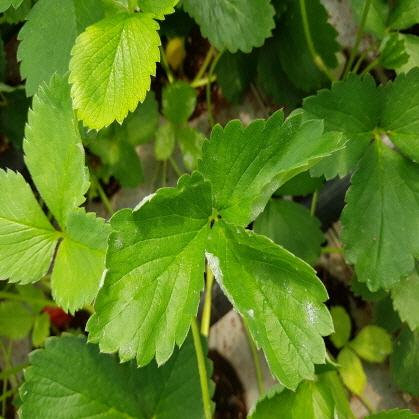Powdery Mildew Leaf: (86, 167, 216, 368), (202, 216, 336, 393), (195, 106, 352, 228)
